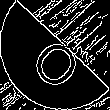O_NE: (23, 21, 87, 89)
